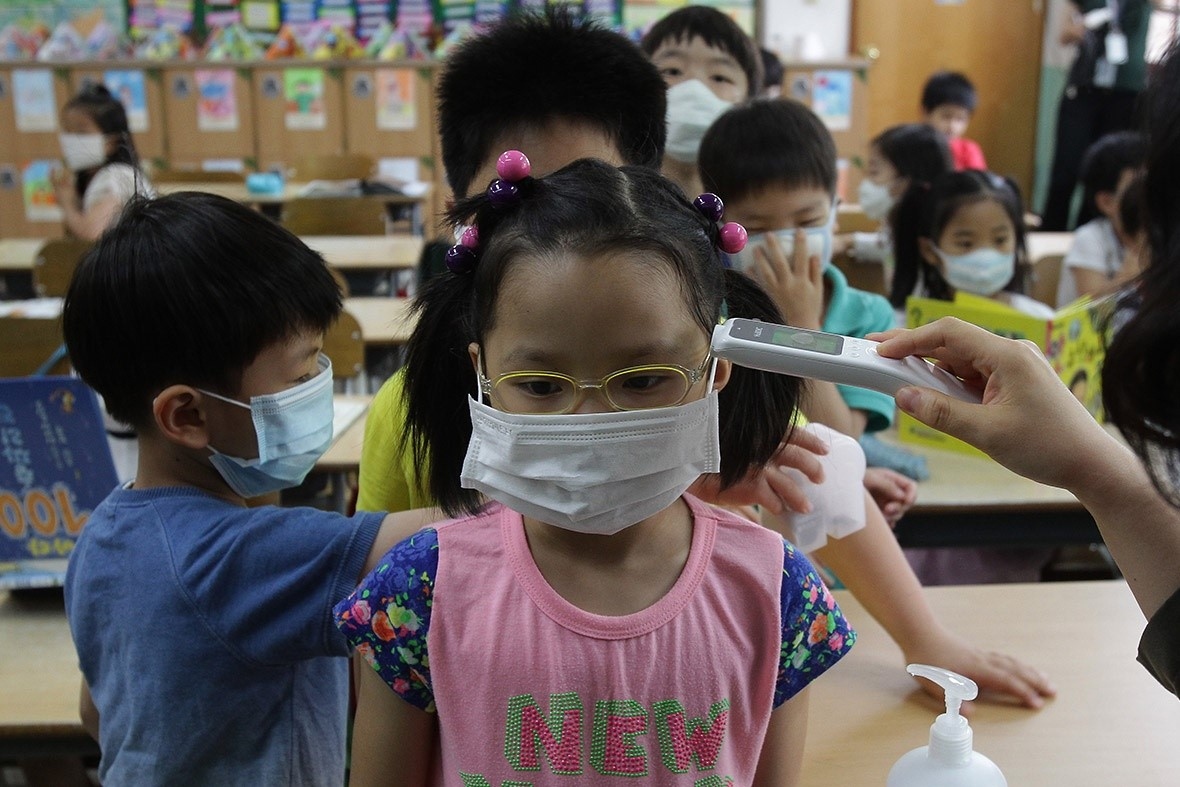face_with_mask: (460, 180, 739, 540), (73, 213, 336, 492), (703, 101, 839, 285), (628, 10, 762, 175), (914, 172, 1032, 310), (59, 83, 130, 174)
